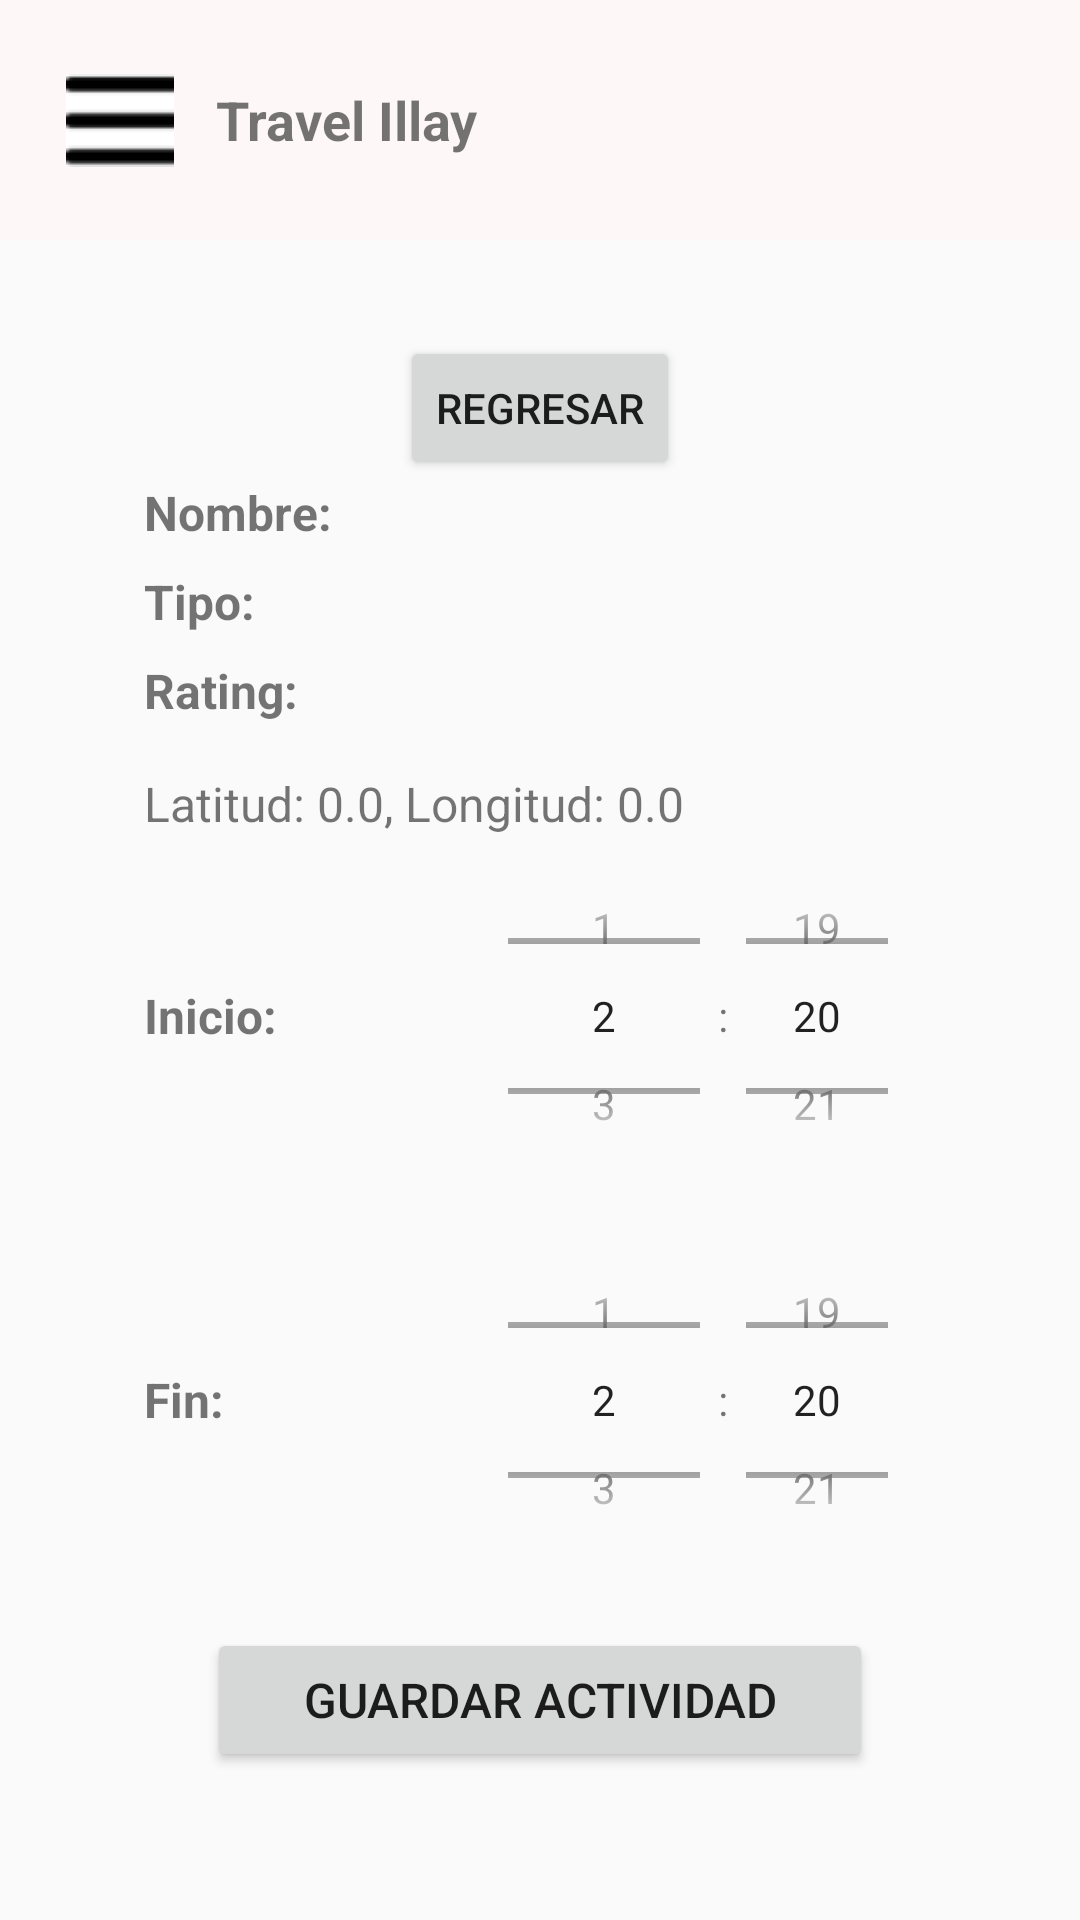

Icon bounding boxes for this 1080 x 1920 phone screenshot, format BBox(x1, y1, x2, y2):
Menú principal: BBox(66, 76, 174, 167)
